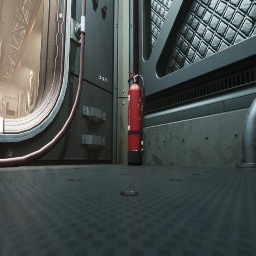FireExtinguisher ]: (127, 72, 145, 166)
